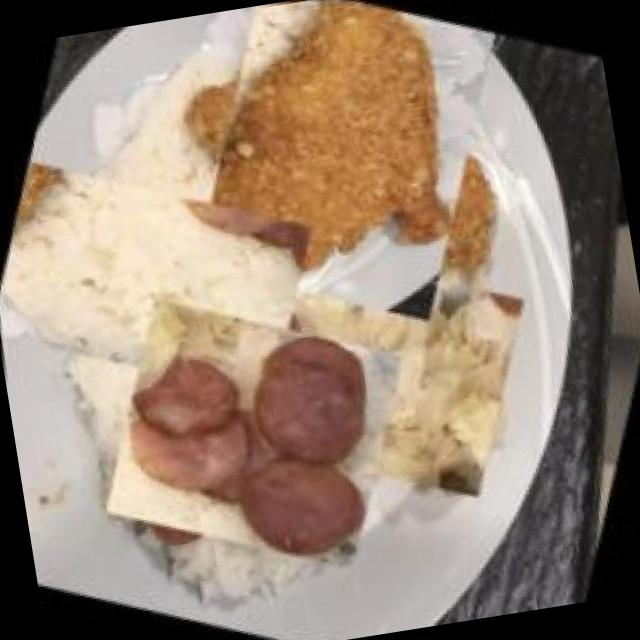chinese_cabbage: (276, 230, 560, 526)
chinese_sausage: (74, 250, 438, 614)
fried_chicken: (139, 0, 559, 348)
rice: (0, 100, 331, 458)
